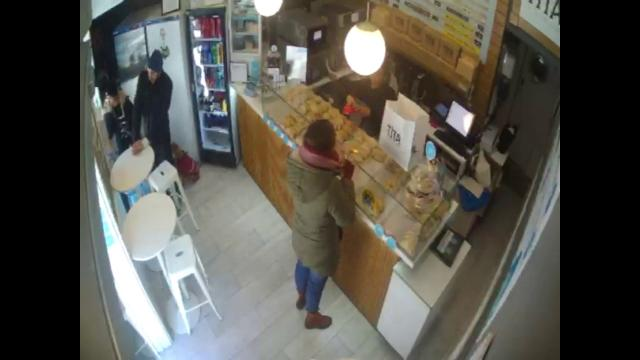cliente: (286, 119, 355, 328), (132, 50, 172, 171), (104, 84, 134, 155)
empleado: (342, 60, 397, 140)
